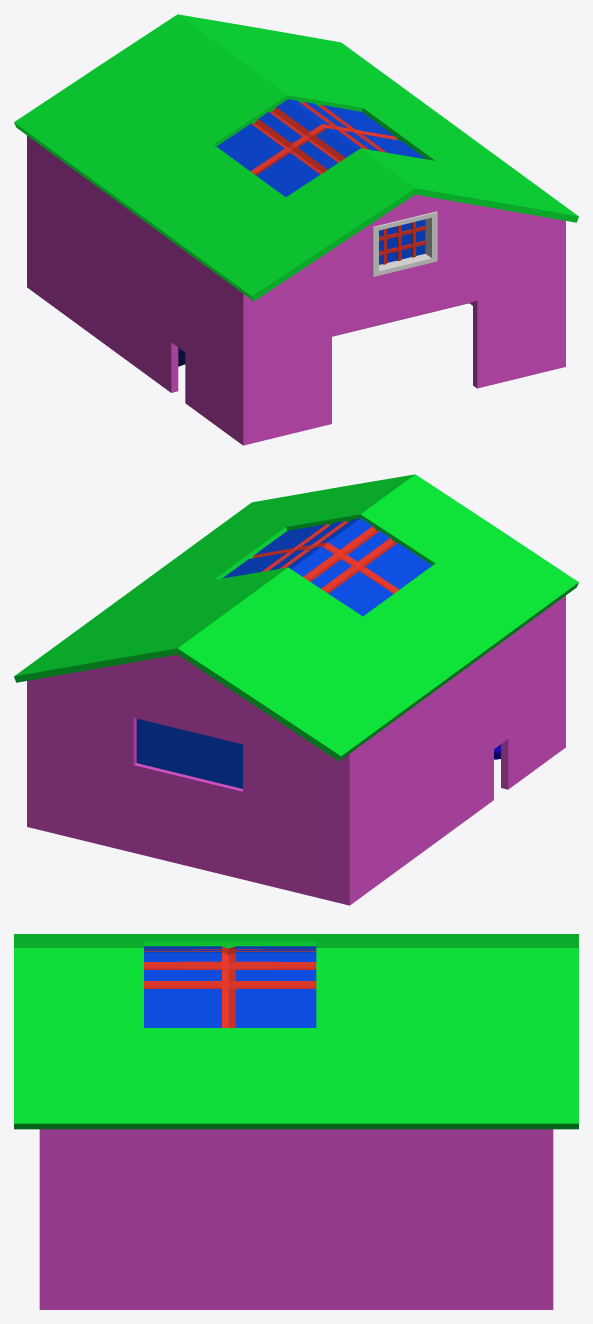
File: Garage.fbx
3 renders of one model, top to bottom at view 1: azimuth 30°, elevation 25°; view 2: azimuth 150°, elevation 25°; view 3: azimuth 270°, elevation 25°, orthographic. The views are drawn at different scales.
Visible parts, largest first — view 1: Base, Roof, TopWindow, FrontWindow; view 2: Base, Roof, TopWindow, Plane.003; view 3: Roof, Base, TopWindow.
Part boxes in pixels (x1,y1,x2,y2): Base: (27,135,565,445); Roof: (14,14,578,301); TopWindow: (216,99,425,197); FrontWindow: (372,211,437,276); Base: (27,595,565,905); Roof: (14,474,578,761); TopWindow: (223,518,432,616); Plane.003: (136,718,242,788); Roof: (14,934,578,1129); Base: (39,1129,553,1309); TopWindow: (144,946,316,1027).
Bounding box in the file's own units: 2027 × 1355 × 2552.
